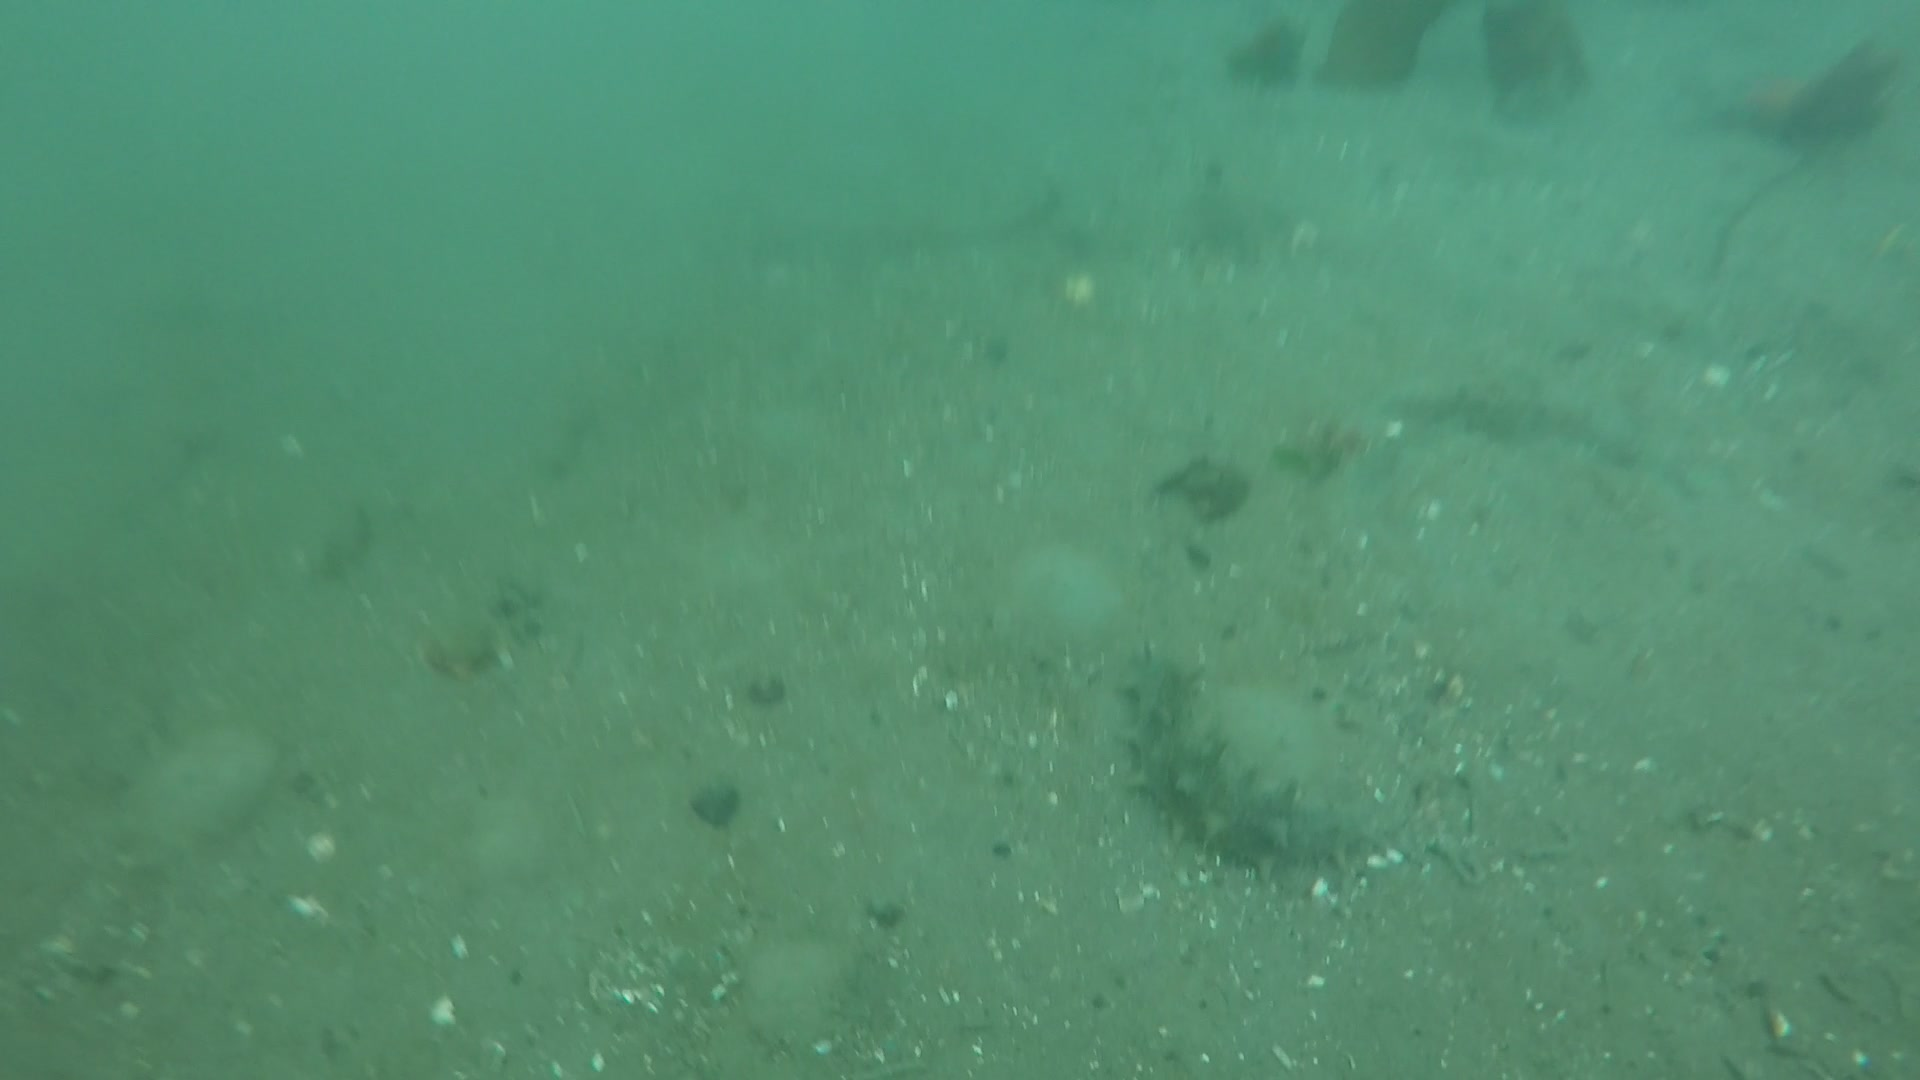holothurian: (1121, 655, 1367, 880)
